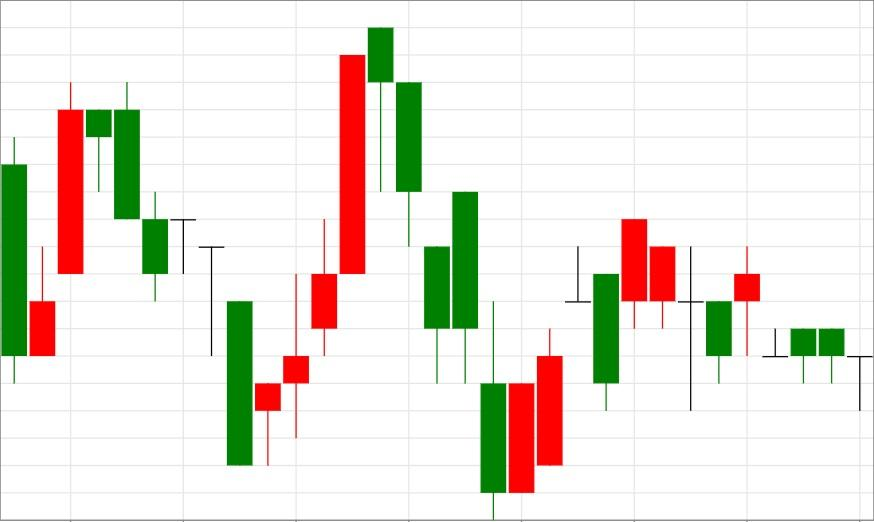hanging_man_fall: (227, 26, 396, 467), (0, 82, 113, 384)
